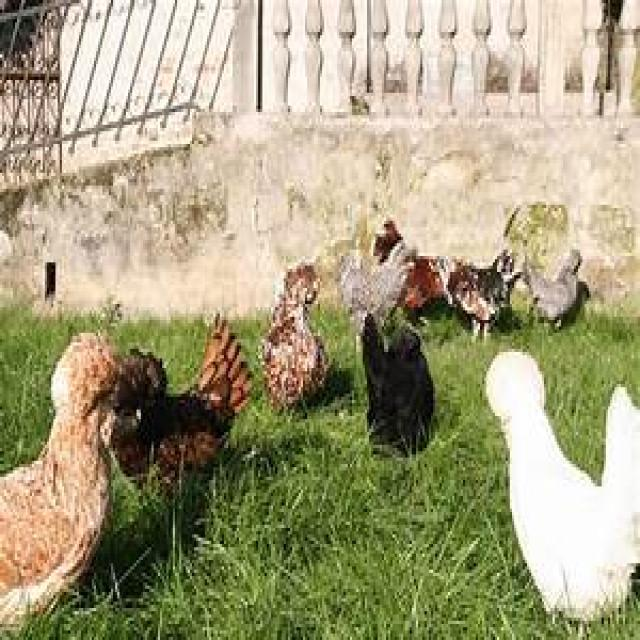animal: (0, 329, 166, 630), (482, 346, 638, 627), (99, 316, 255, 503), (358, 307, 436, 458), (258, 259, 329, 413), (520, 243, 589, 330)
